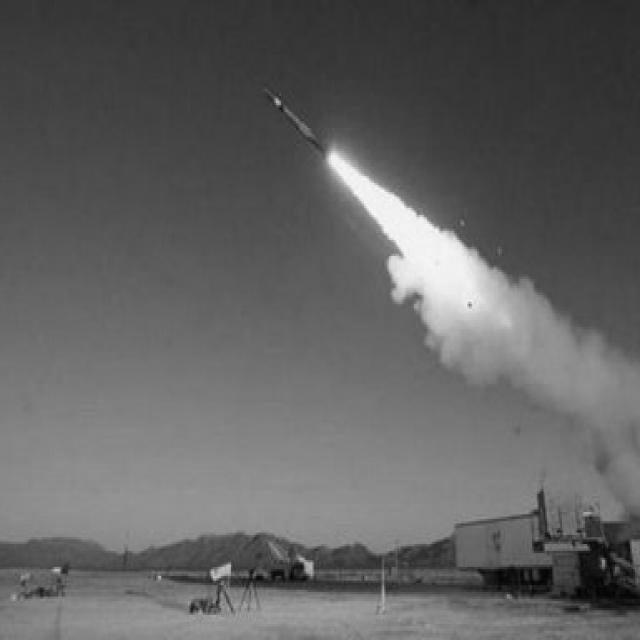Missile: (256, 69, 339, 176)
